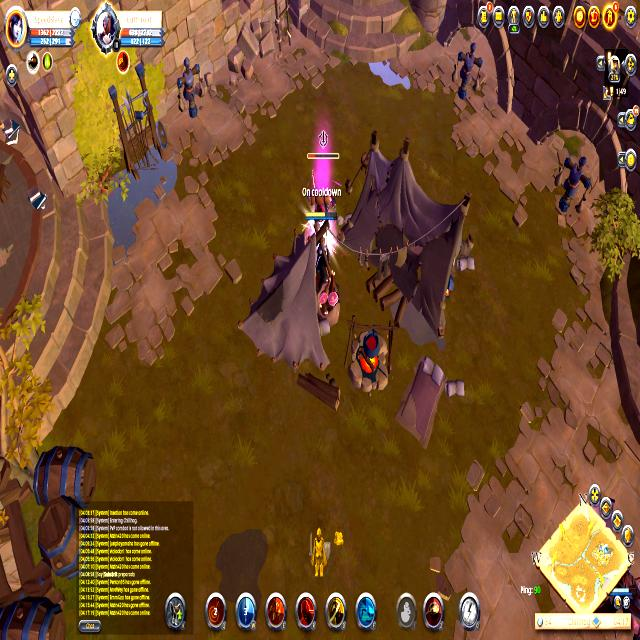ore: (301, 127, 344, 218)
red: (307, 210, 340, 290)
